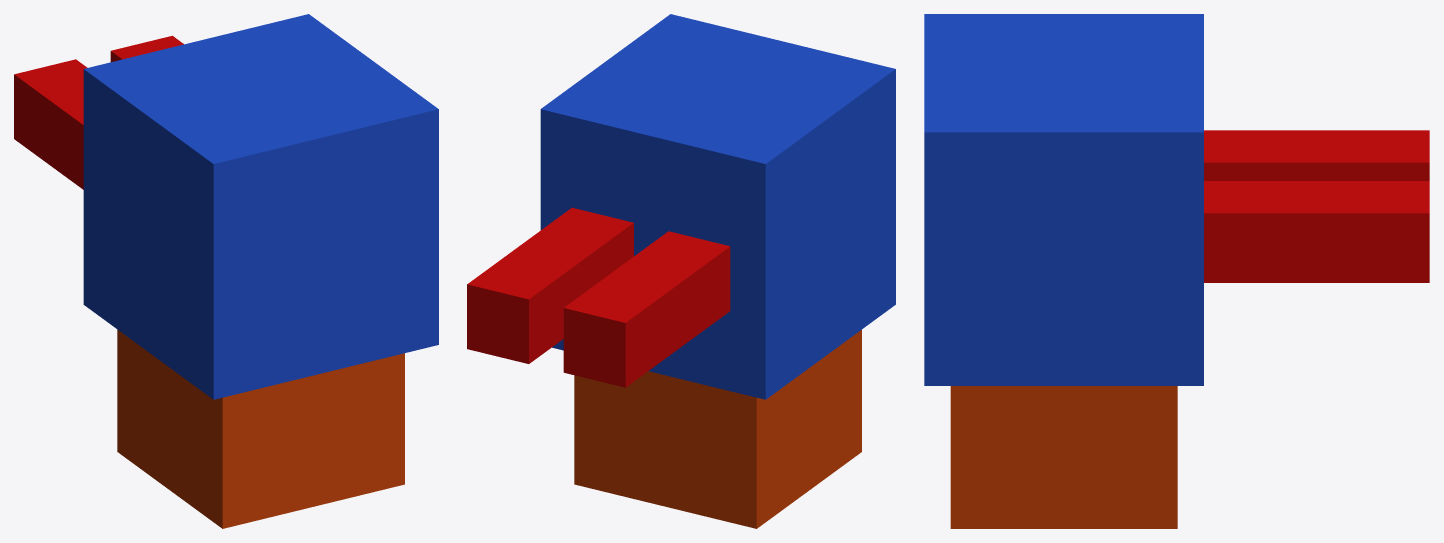
The model's file is Rapid_Turret.obj.
3 views of the same model, side by side, from view 1: azimuth 30°, elevation 25°; view 2: azimuth 150°, elevation 25°; view 3: azimuth 270°, elevation 25° (orthographic). The views are drawn at different scales.
Visible parts, largest first — view 1: Cube.002, Cube.001, Cube.004, Cube.003; view 2: Cube.002, Cube.001, Cube.004, Cube.003; view 3: Cube.002, Cube.001, Cube.003, Cube.004.
Boxes of the visible parts, x1,y1,x2,y2 form: Cube.002: (83,14,438,399); Cube.001: (117,329,404,528); Cube.004: (14,59,87,189); Cube.003: (110,35,183,61); Cube.002: (540,14,895,399); Cube.001: (574,329,861,528); Cube.004: (563,231,730,387); Cube.003: (467,207,633,363); Cube.002: (924,14,1203,385); Cube.001: (950,386,1177,528); Cube.003: (1204,181,1429,282); Cube.004: (1204,130,1429,180).
Size of the model in its own units: 0.8015 by 1.29 by 1.45.
